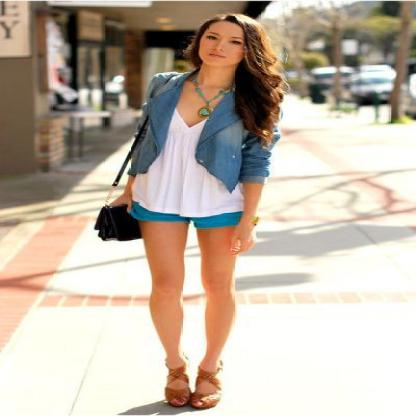bag: (95, 124, 155, 240)
jacket: (127, 75, 270, 228)
shirt: (112, 108, 236, 216)
shoe: (165, 366, 221, 407)
